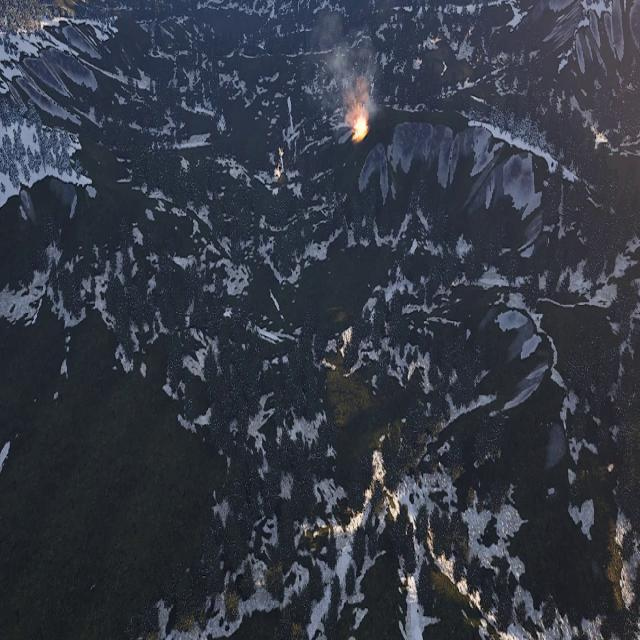fire: (352, 115, 368, 142)
smoke: (316, 5, 386, 120)
